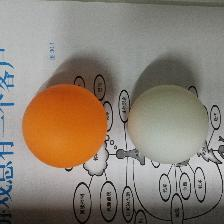WhiteBall: (127, 85, 208, 164)
YellowBall: (22, 84, 107, 167)
